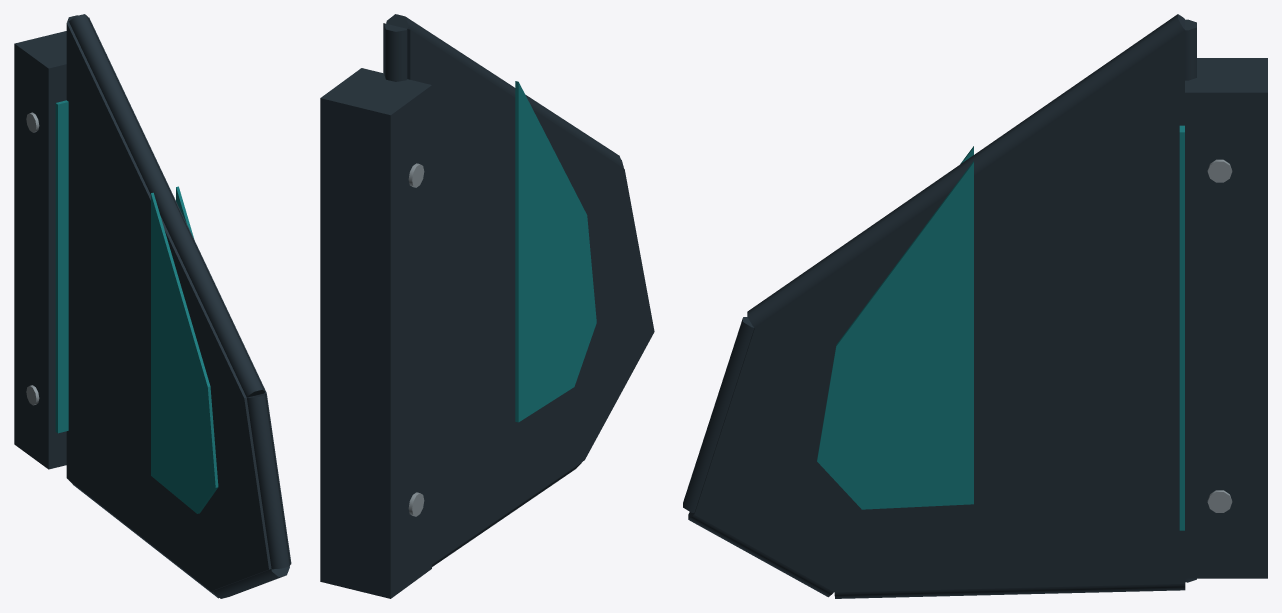
File: s_22_pero.glb
3 views of the same model, side by side, from view 1: azimuth 30°, elevation 25°; view 2: azimuth 150°, elevation 25°; view 3: azimuth 270°, elevation 25° (orthographic). The views are drawn at different scales.
Visible parts, largest first — view 1: s_22_pero.blade.mesh_JUGRE_·_graphite_composite, s_22_pero.mesh_JUGRE_·_graphite_composite, s_22_pero.blade.mesh_JUGRE_·_signal_teal, s_22_pero.mesh_JUGRE_·_signal_teal, s_22_pero.mesh_JUGRE_·_bead-blasted_titanium; view 2: s_22_pero.blade.mesh_JUGRE_·_graphite_composite, s_22_pero.mesh_JUGRE_·_graphite_composite, s_22_pero.blade.mesh_JUGRE_·_signal_teal, s_22_pero.mesh_JUGRE_·_bead-blasted_titanium; view 3: s_22_pero.blade.mesh_JUGRE_·_graphite_composite, s_22_pero.mesh_JUGRE_·_graphite_composite, s_22_pero.blade.mesh_JUGRE_·_signal_teal, s_22_pero.mesh_JUGRE_·_signal_teal, s_22_pero.mesh_JUGRE_·_bead-blasted_titanium.
Boxes of the visible parts, bbox=[...] form: s_22_pero.blade.mesh_JUGRE_·_graphite_composite: bbox=[66, 14, 291, 598]; s_22_pero.mesh_JUGRE_·_graphite_composite: bbox=[14, 31, 66, 469]; s_22_pero.blade.mesh_JUGRE_·_signal_teal: bbox=[151, 186, 218, 513]; s_22_pero.mesh_JUGRE_·_signal_teal: bbox=[55, 100, 68, 433]; s_22_pero.mesh_JUGRE_·_bead-blasted_titanium: bbox=[26, 112, 39, 405]; s_22_pero.blade.mesh_JUGRE_·_graphite_composite: bbox=[383, 14, 654, 566]; s_22_pero.mesh_JUGRE_·_graphite_composite: bbox=[320, 68, 431, 598]; s_22_pero.blade.mesh_JUGRE_·_signal_teal: bbox=[515, 81, 596, 422]; s_22_pero.mesh_JUGRE_·_bead-blasted_titanium: bbox=[408, 163, 424, 516]; s_22_pero.blade.mesh_JUGRE_·_graphite_composite: bbox=[683, 14, 1196, 598]; s_22_pero.mesh_JUGRE_·_graphite_composite: bbox=[1185, 58, 1267, 578]; s_22_pero.blade.mesh_JUGRE_·_signal_teal: bbox=[817, 146, 973, 509]; s_22_pero.mesh_JUGRE_·_signal_teal: bbox=[1179, 125, 1184, 530]; s_22_pero.mesh_JUGRE_·_bead-blasted_titanium: bbox=[1207, 159, 1232, 512].
Bounding box in the file's own units: 0.0944 × 0.6724 × 0.6145.
